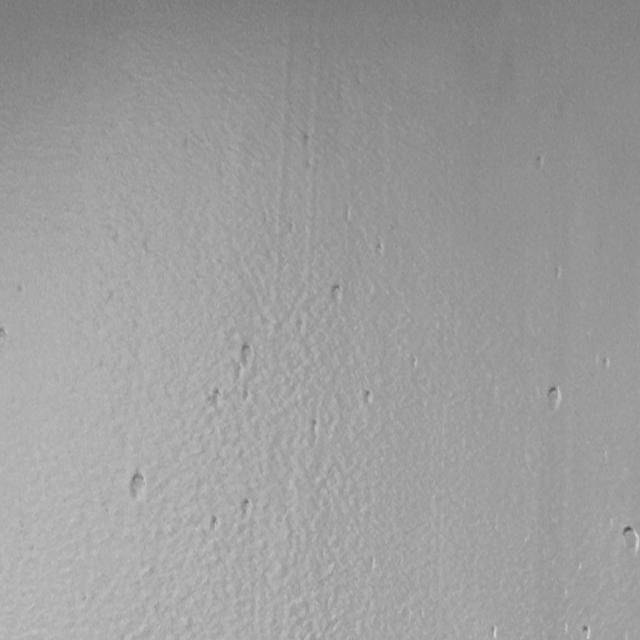pin holes: (128, 469, 151, 503), (618, 526, 639, 559), (542, 386, 564, 413), (238, 343, 257, 368), (208, 388, 226, 412), (308, 415, 320, 450), (238, 497, 253, 522), (373, 239, 390, 261), (330, 283, 346, 305), (533, 153, 548, 173), (550, 262, 564, 283), (303, 152, 317, 173), (362, 390, 378, 408), (1, 322, 13, 345), (299, 131, 312, 151), (209, 515, 223, 533), (486, 624, 501, 640), (599, 356, 612, 374), (580, 623, 592, 640), (242, 390, 252, 410), (0, 326, 9, 345)
